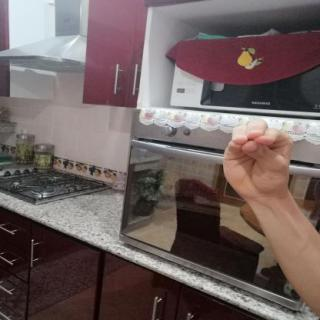HA: (206, 112, 309, 209)
